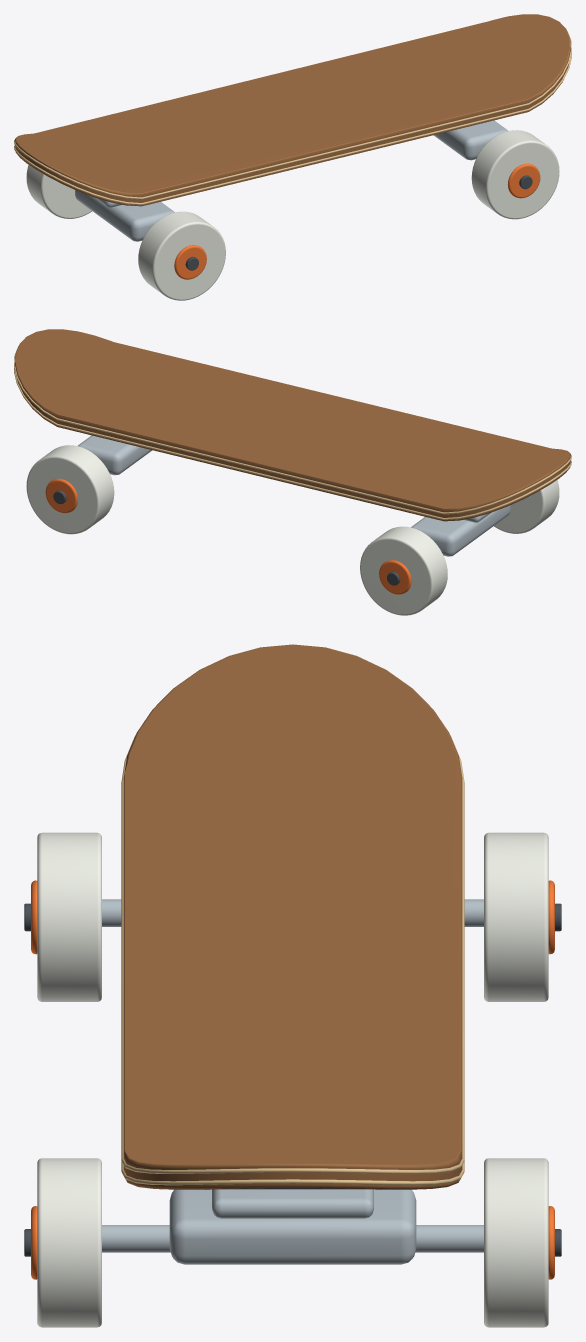
Rendered from skateboard.glb.
3 renders of one model, top to bottom at view 1: azimuth 30°, elevation 25°; view 2: azimuth 150°, elevation 25°; view 3: azimuth 270°, elevation 25°, orthographic. The views are drawn at different scales.
Parts seen in each view (by area): view 1: deck, wheel_fl, wheel_fr, truck_hanger, wheel_bl, Visible plywood lamination.001, Visible plywood lamination, truck_hanger.001, wheel_fr_bearing, wheel_fl_bearing; view 2: deck, wheel_bl, wheel_br, truck_hanger, wheel_fl, Visible plywood lamination.001, Visible plywood lamination, truck_hanger.001, wheel_br_bearing, wheel_bl_bearing; view 3: deck, truck_hanger.001, wheel_bl, wheel_br, wheel_fl, wheel_fr, truck_baseplate.001, Visible plywood lamination.001, truck_axle.001, Visible plywood lamination, truck_axle.
Part boxes in pixels (<box>): deck: <box>15,14,570,206</box>; wheel_fl: <box>138,211,225,300</box>; wheel_fr: <box>471,130,559,219</box>; truck_hanger: <box>75,190,174,241</box>; wheel_bl: <box>26,165,91,218</box>; Visible plywood lamination.001: <box>14,31,571,199</box>; Visible plywood lamination: <box>14,53,571,204</box>; truck_hanger.001: <box>433,120,507,160</box>; wheel_fr_bearing: <box>508,163,540,198</box>; wheel_fl_bearing: <box>174,245,206,279</box>; deck: <box>15,329,570,521</box>; wheel_bl: <box>360,526,447,615</box>; wheel_br: <box>26,445,114,534</box>; truck_hanger: <box>411,505,510,556</box>; wheel_fl: <box>494,480,559,533</box>; Visible plywood lamination.001: <box>14,346,571,514</box>; Visible plywood lamination: <box>14,368,571,519</box>; truck_hanger.001: <box>78,435,152,475</box>; wheel_br_bearing: <box>45,478,77,513</box>; wheel_bl_bearing: <box>379,560,411,594</box>; deck: <box>123,644,462,1189</box>; truck_hanger.001: <box>169,1189,416,1264</box>; wheel_bl: <box>484,832,548,1001</box>; wheel_br: <box>484,1158,548,1327</box>; wheel_fl: <box>37,832,101,1001</box>; wheel_fr: <box>37,1158,101,1327</box>; truck_baseplate.001: <box>212,1189,373,1218</box>; Visible plywood lamination.001: <box>121,735,464,1173</box>; truck_axle.001: <box>102,1225,483,1252</box>; Visible plywood lamination: <box>121,1161,464,1185</box>; truck_axle: <box>102,899,483,926</box>.
Size of the model in its own units: 0.8027 by 0.1811 by 0.349.
